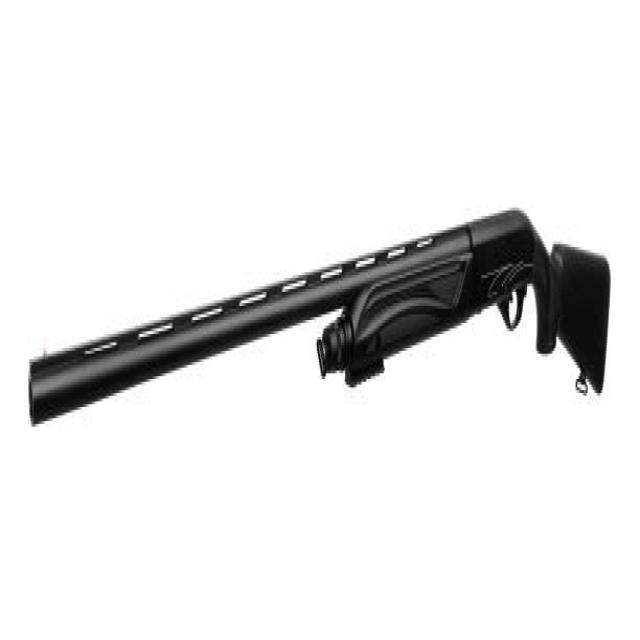rifle: (22, 190, 615, 487)
